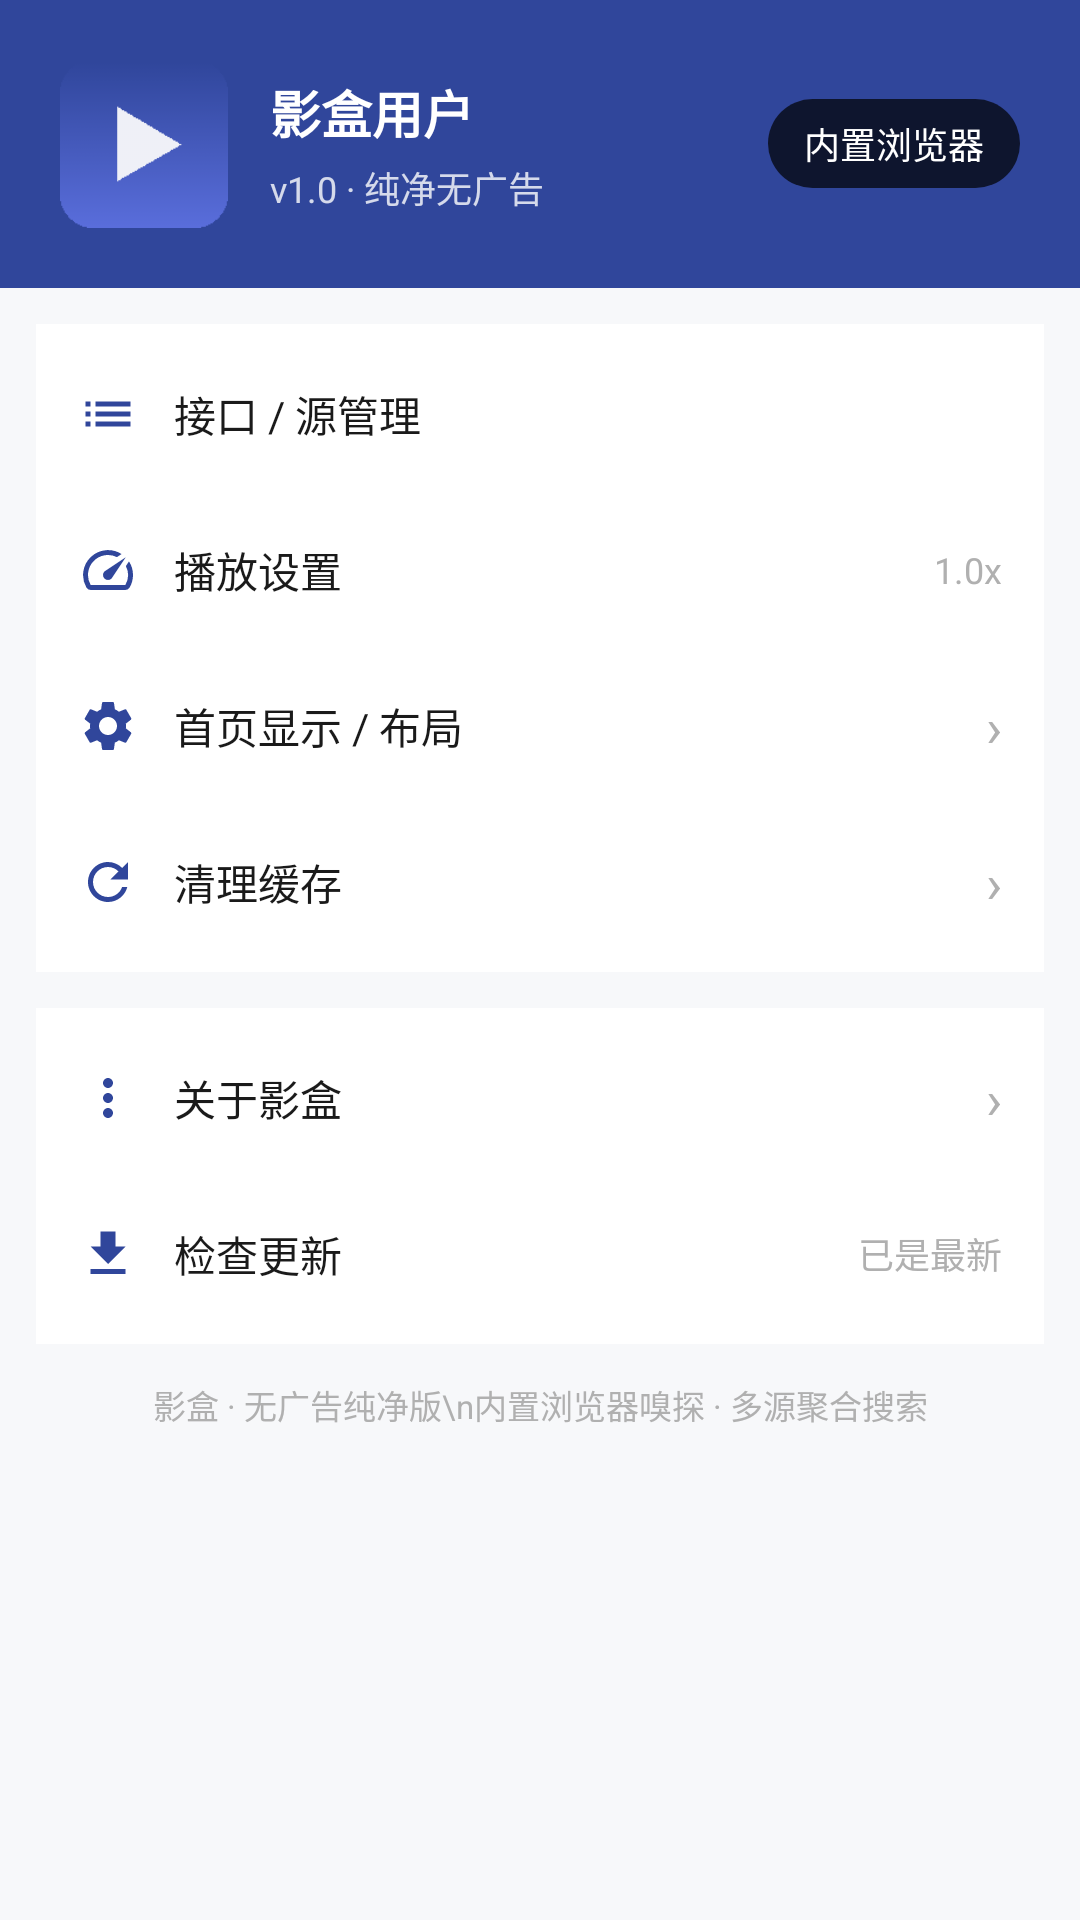

Named icons in this screenshot (1080px x 1920px) and their bounding boxes, (x1, y1, x2, y2):
download: (90, 1231, 126, 1274)
list: (85, 401, 131, 427)
more: (103, 1078, 113, 1118)
refresh: (88, 862, 128, 902)
settings: (84, 702, 132, 750)
speed: (83, 550, 133, 590)
